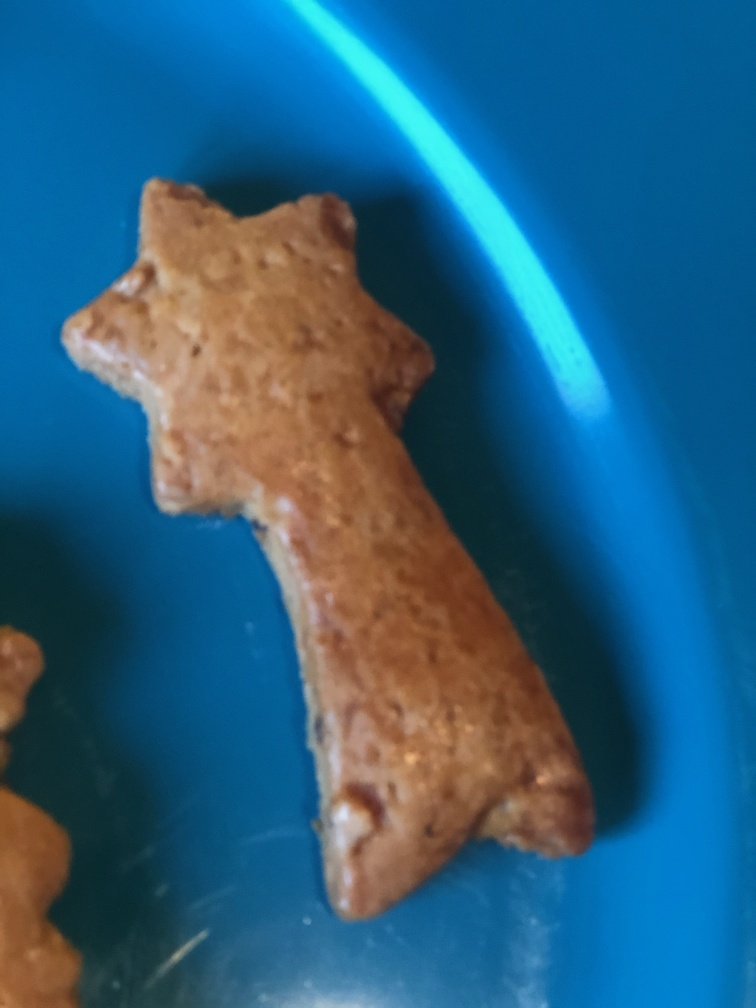shooting star: (56, 171, 600, 921)
